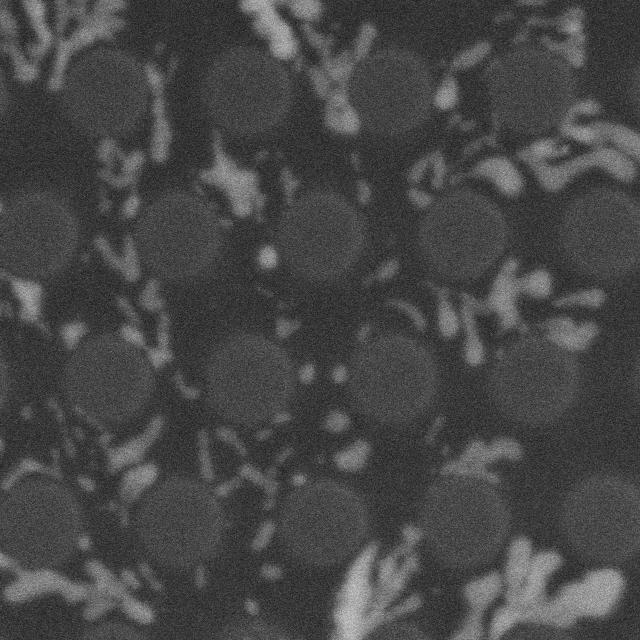Dendrite: (440, 538, 623, 640), (0, 530, 154, 624), (0, 532, 153, 623), (326, 525, 422, 640), (302, 27, 375, 135), (47, 0, 126, 91), (520, 142, 638, 191), (561, 100, 640, 173), (199, 134, 264, 218), (429, 286, 491, 366), (483, 257, 549, 332), (325, 545, 375, 640), (513, 7, 585, 68), (434, 43, 490, 110), (238, 0, 296, 61), (12, 0, 54, 84), (439, 155, 523, 197), (103, 417, 163, 473), (445, 436, 521, 480), (225, 408, 296, 443), (145, 284, 173, 368), (97, 139, 144, 189), (149, 66, 171, 163), (94, 237, 140, 281), (544, 315, 597, 352), (2, 456, 59, 489), (50, 399, 78, 460), (408, 151, 446, 192), (119, 464, 157, 503), (263, 446, 290, 500), (240, 464, 278, 499), (215, 425, 253, 459), (333, 438, 370, 472), (385, 299, 426, 329), (555, 287, 605, 308), (136, 560, 164, 596), (92, 502, 128, 528), (199, 430, 217, 481), (278, 0, 320, 21), (60, 320, 88, 348), (173, 372, 200, 401), (279, 167, 300, 200), (493, 5, 515, 36), (118, 323, 146, 347), (371, 257, 399, 280), (252, 521, 273, 550), (424, 414, 445, 442), (256, 244, 278, 270), (325, 409, 349, 432), (274, 317, 300, 338), (354, 179, 374, 204), (189, 565, 208, 591), (256, 472, 276, 494), (122, 195, 141, 218), (260, 562, 282, 581), (74, 477, 94, 497), (216, 479, 237, 498), (408, 189, 430, 207), (300, 363, 315, 383), (331, 364, 346, 382), (290, 470, 308, 485), (514, 0, 548, 7), (245, 599, 260, 614), (242, 472, 261, 482), (149, 348, 158, 362), (164, 114, 167, 115)
